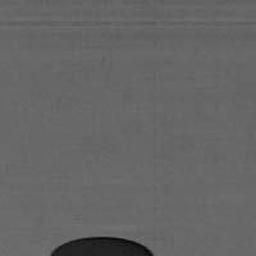Punching: (50, 236, 154, 256)
